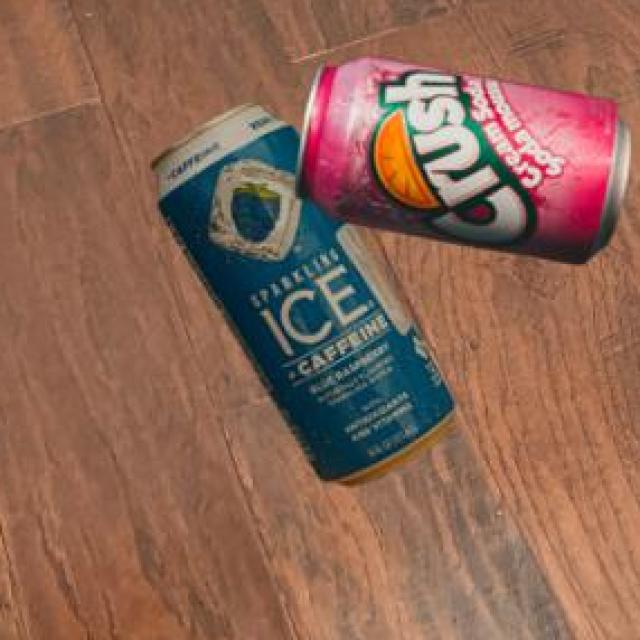logam: (149, 97, 451, 482), (292, 53, 628, 261)
